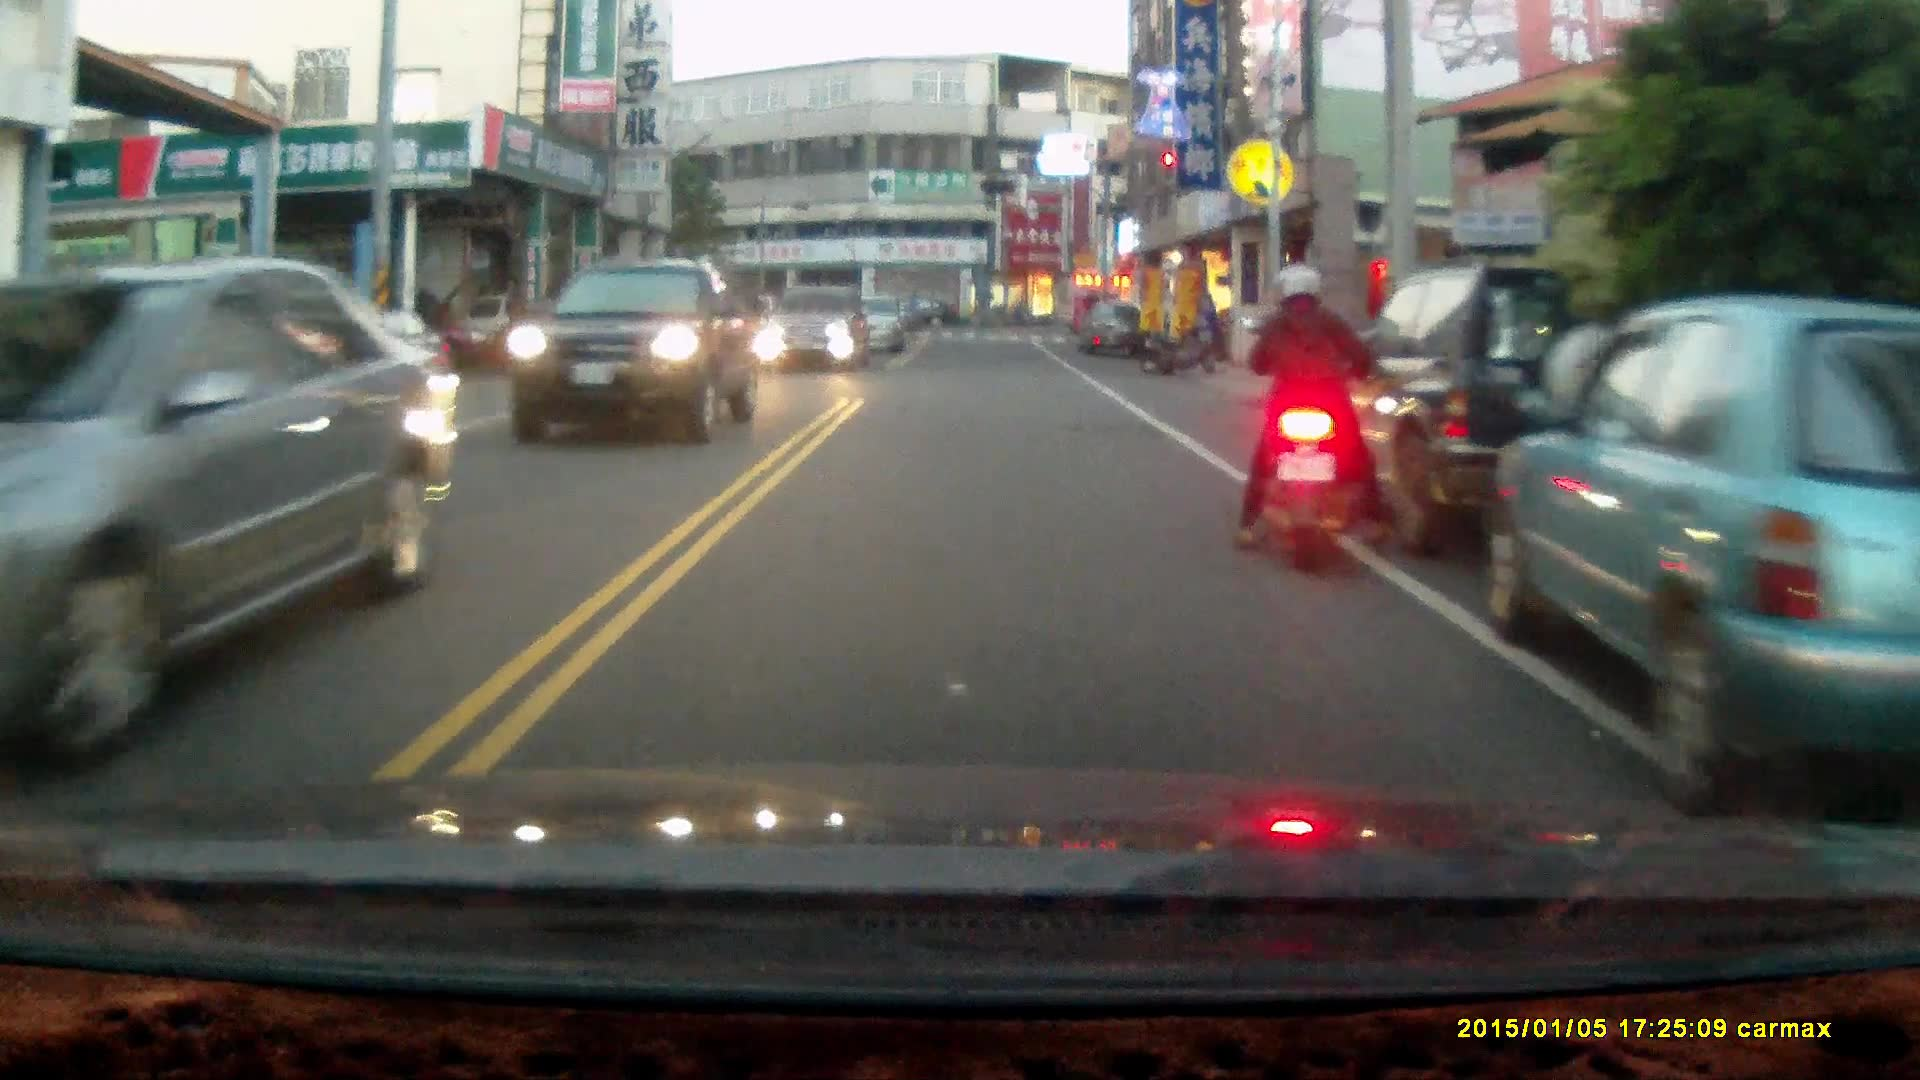rider: (1233, 263, 1393, 579)
vehicle: (1, 255, 457, 772), (1484, 293, 1920, 810), (1294, 259, 1702, 560), (508, 255, 752, 438), (750, 285, 879, 373), (1077, 299, 1147, 357)
